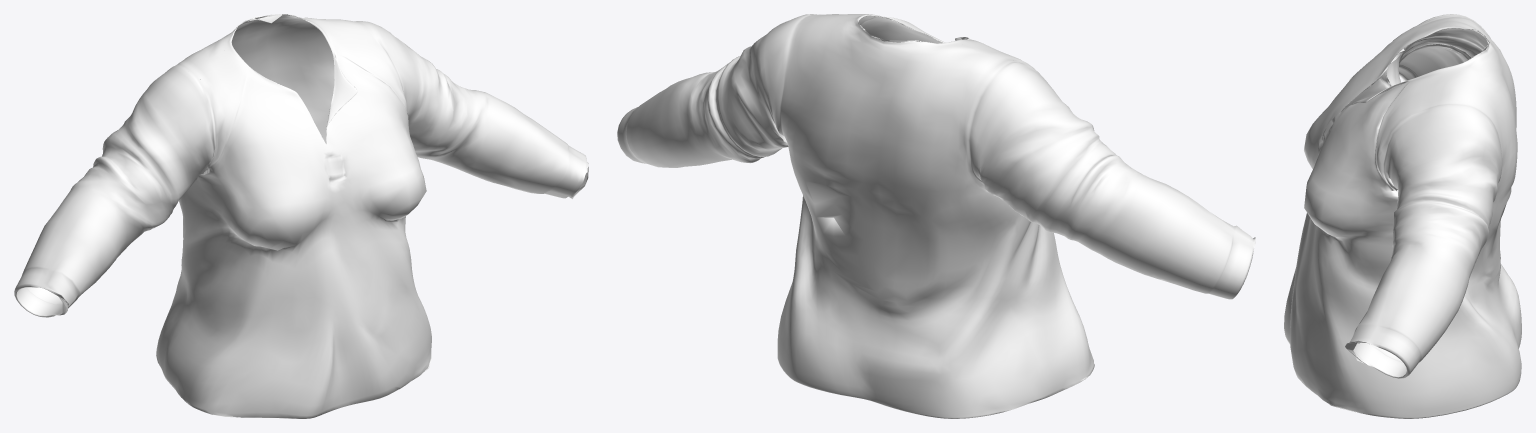
Rendered from Longsleeve.glb.
3 renders of one model, left to right at view 1: azimuth 30°, elevation 25°; view 2: azimuth 150°, elevation 25°; view 3: azimuth 270°, elevation 25°, orthographic. The views are drawn at different scales.
Visible parts, largest first — view 1: Newport_Shirt_10879.003; view 2: Newport_Shirt_10879.003; view 3: Newport_Shirt_10879.003.
Part boxes in pixels (x1=…): Newport_Shirt_10879.003: x1=14, y1=14, x2=588, y2=418; Newport_Shirt_10879.003: x1=617, y1=14, x2=1255, y2=418; Newport_Shirt_10879.003: x1=1284, y1=14, x2=1521, y2=418.
Size of the model in its own units: 21.61 by 11.7 by 7.89.
Materials: 1 (1 with a texture image).
